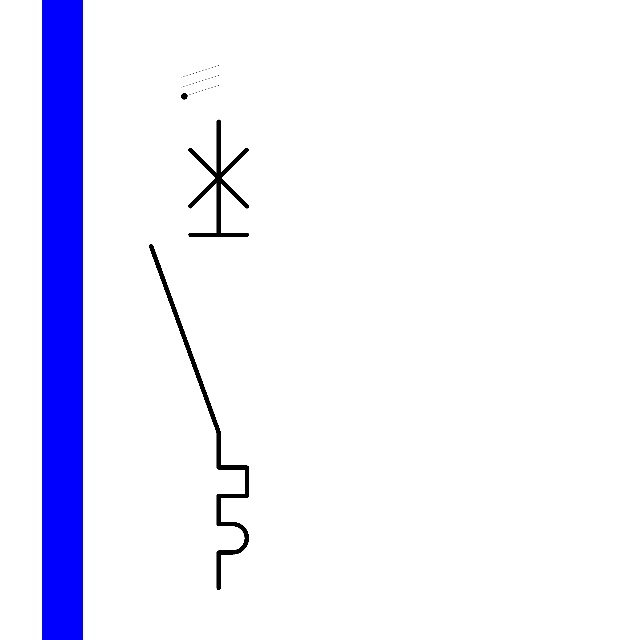interruptor_termomagnetico: (139, 109, 259, 599)
